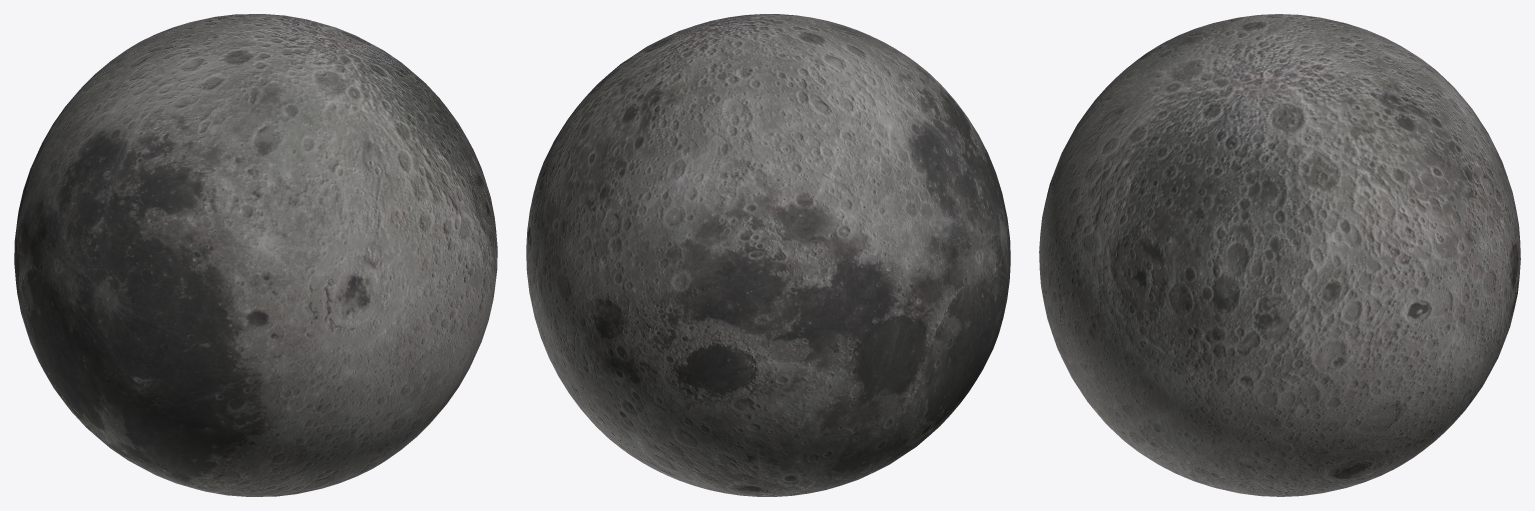
The model's file is moon.glb.
3 renders of one model, left to right at view 1: azimuth 30°, elevation 25°; view 2: azimuth 150°, elevation 25°; view 3: azimuth 270°, elevation 25°, orthographic.
Parts seen in each view (by area): view 1: Moon; view 2: Moon; view 3: Moon.
Boxes of the visible parts, x1,y1,x2,y2 form: Moon: (14,14,497,496); Moon: (526,14,1010,496); Moon: (1039,14,1520,496).
Bounding box in the file's own units: 2 × 2 × 2.
1 material, 1 textured.
